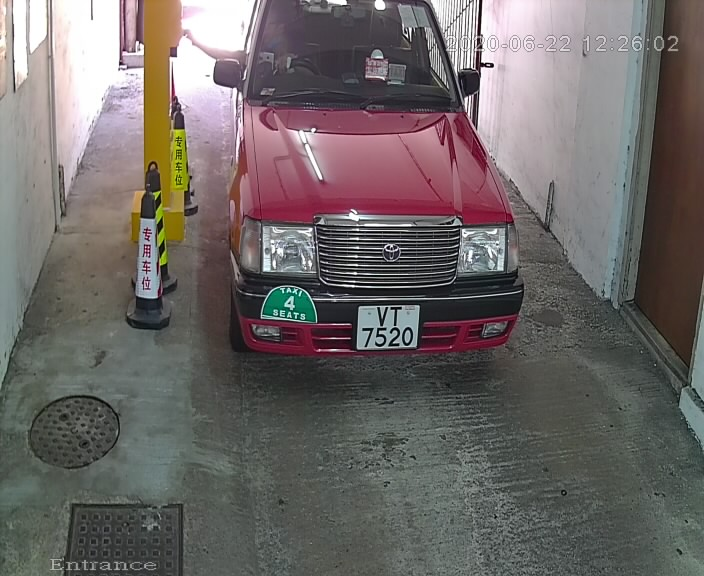taxi: (201, 1, 540, 412)
taxi_mark: (263, 273, 319, 338)
